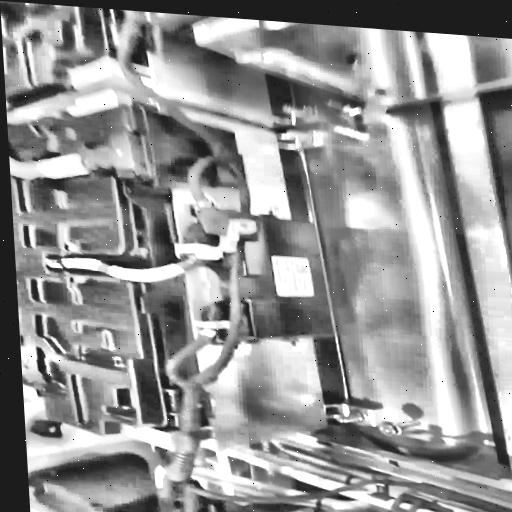low_volt_cable: (103, 8, 262, 486), (34, 233, 216, 287)
nut: (322, 95, 365, 114), (377, 418, 412, 439), (338, 412, 368, 426)
